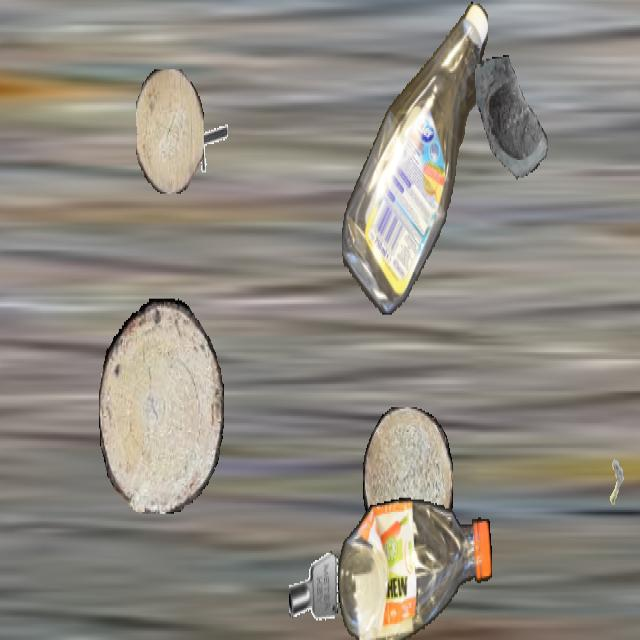glass: (475, 55, 557, 201)
metal: (289, 544, 339, 633), (594, 454, 634, 524), (190, 108, 228, 176)
plastic: (342, 2, 488, 314), (338, 496, 492, 638)
wood: (99, 299, 223, 512), (363, 407, 453, 557), (136, 69, 204, 194)
